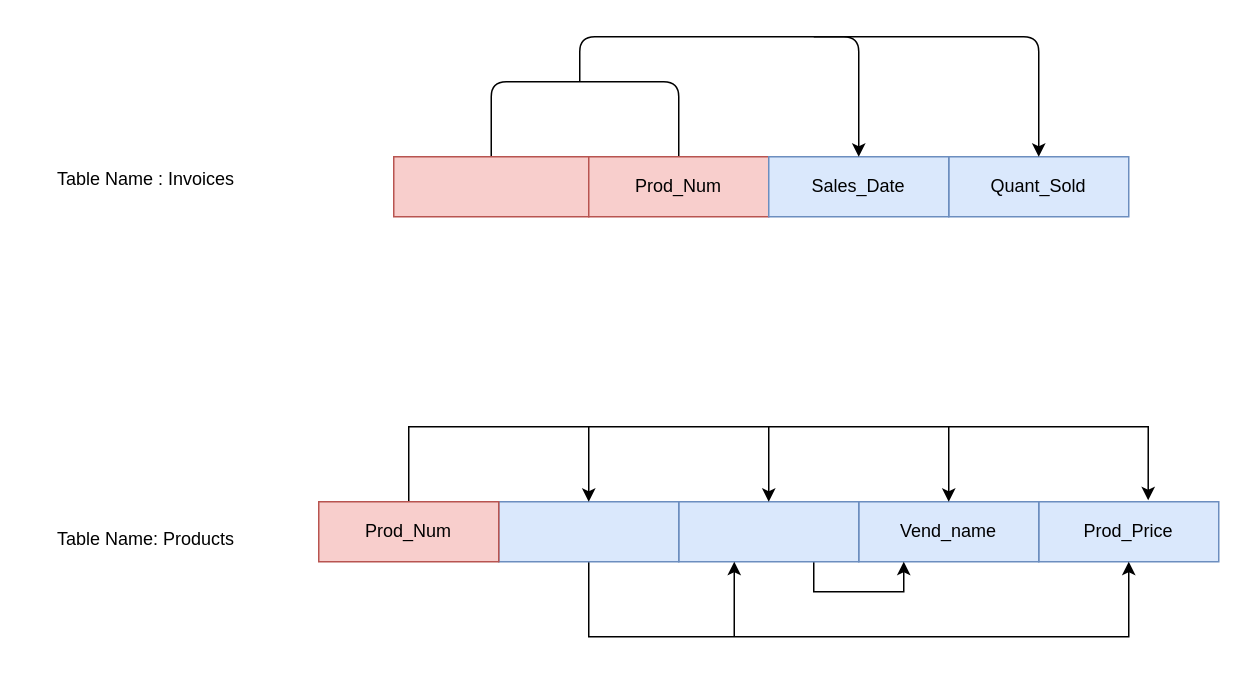
Some shapes in this 1245 by 675 pixel diagram are drawn without their labels. Here are the shapes that lost their labels. From the top down, the centre of each, then its label:
(490,186): Inv_Num
(588,531): Prod_Label
(768,531): Vend_Code
